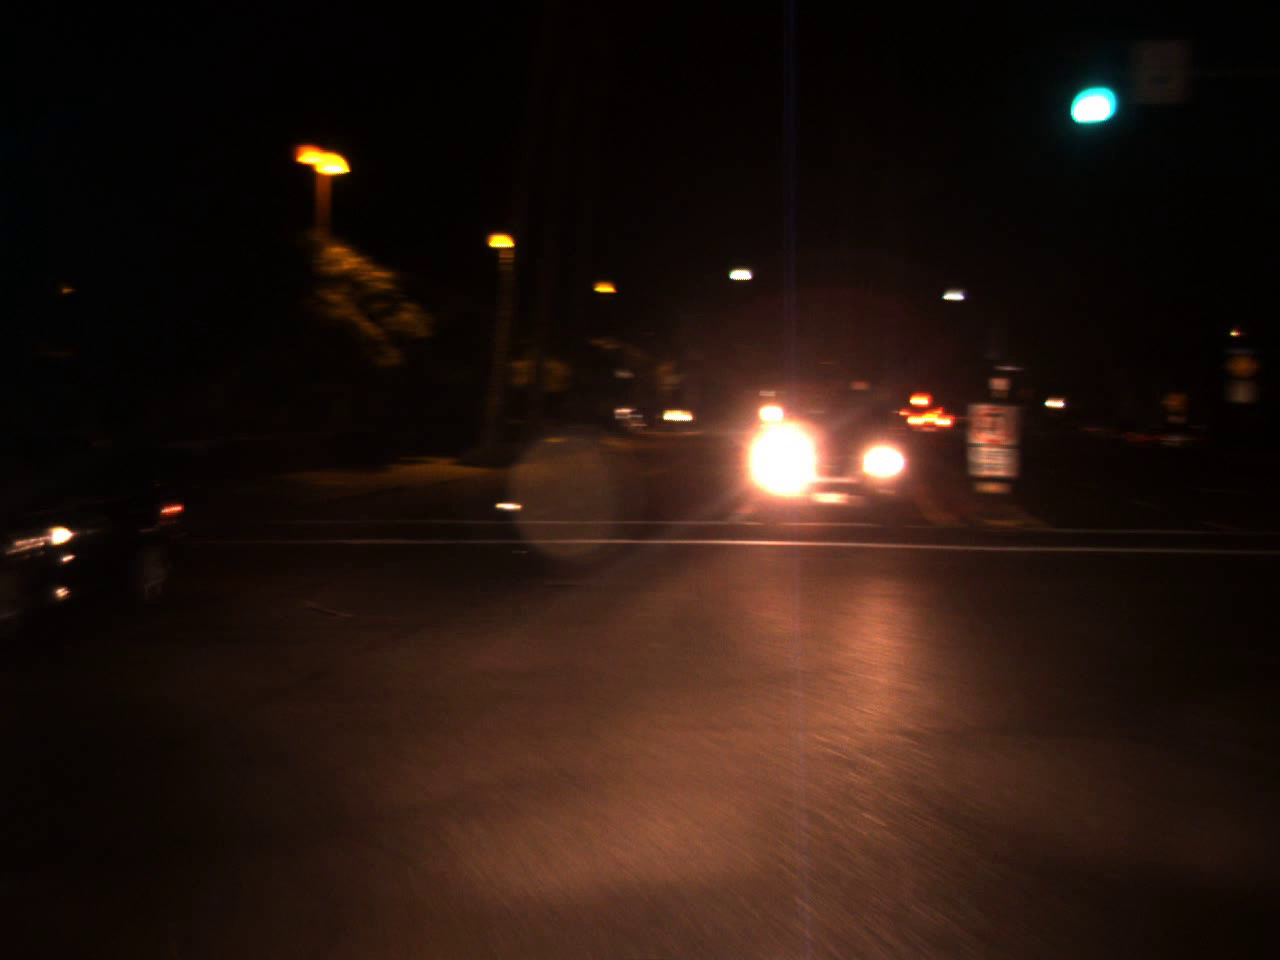go: (1061, 57, 1113, 135)
